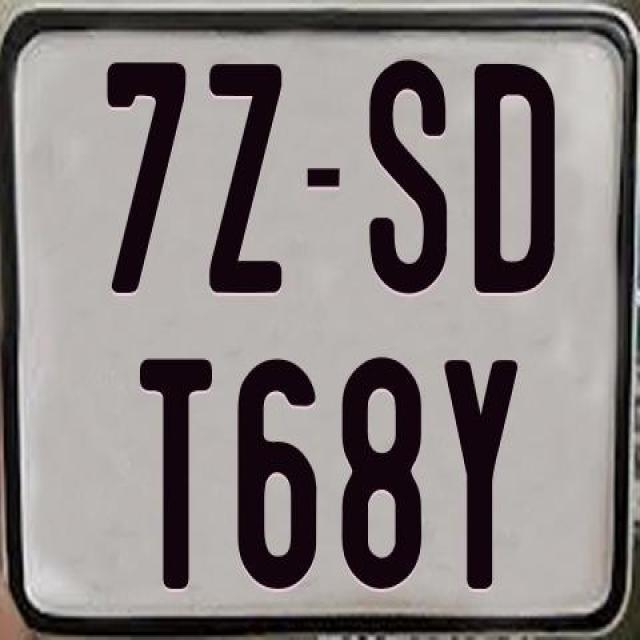6: (237, 357, 320, 597)
7: (106, 61, 190, 292)
8: (337, 357, 423, 596)
D: (474, 64, 558, 302)
S: (367, 57, 445, 300)
T: (138, 353, 210, 584)
Y: (444, 357, 519, 587)
Z: (208, 64, 284, 298)
